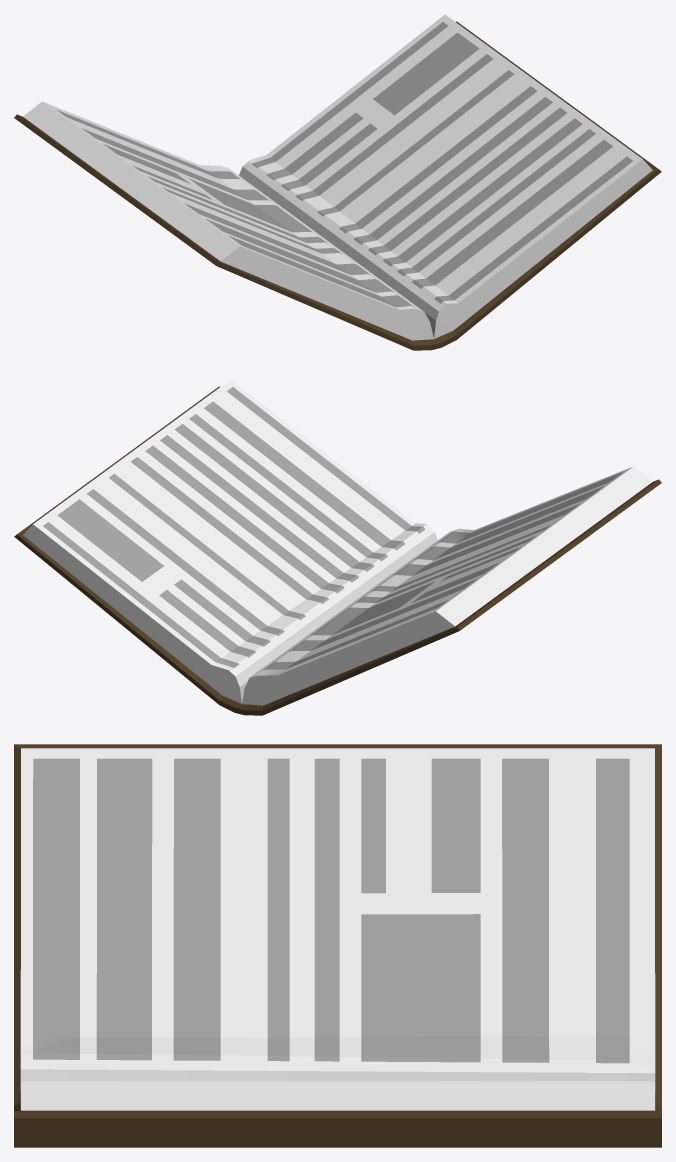
The model's file is PT_Book_open_01.fbx.
3 views of the same model, one above another, from view 1: azimuth 30°, elevation 25°; view 2: azimuth 150°, elevation 25°; view 3: azimuth 270°, elevation 25° (orthographic). The views are drawn at different scales.
Parts seen in each view (by area): view 1: PT_Book_open_01; view 2: PT_Book_open_01; view 3: PT_Book_open_01.
Part boxes in pixels (x1,y1,x2,y2): PT_Book_open_01: [14, 14, 661, 350]; PT_Book_open_01: [14, 379, 661, 715]; PT_Book_open_01: [14, 744, 661, 1147].
Bounding box in the file's own units: 33.79 × 10.76 × 26.56.
